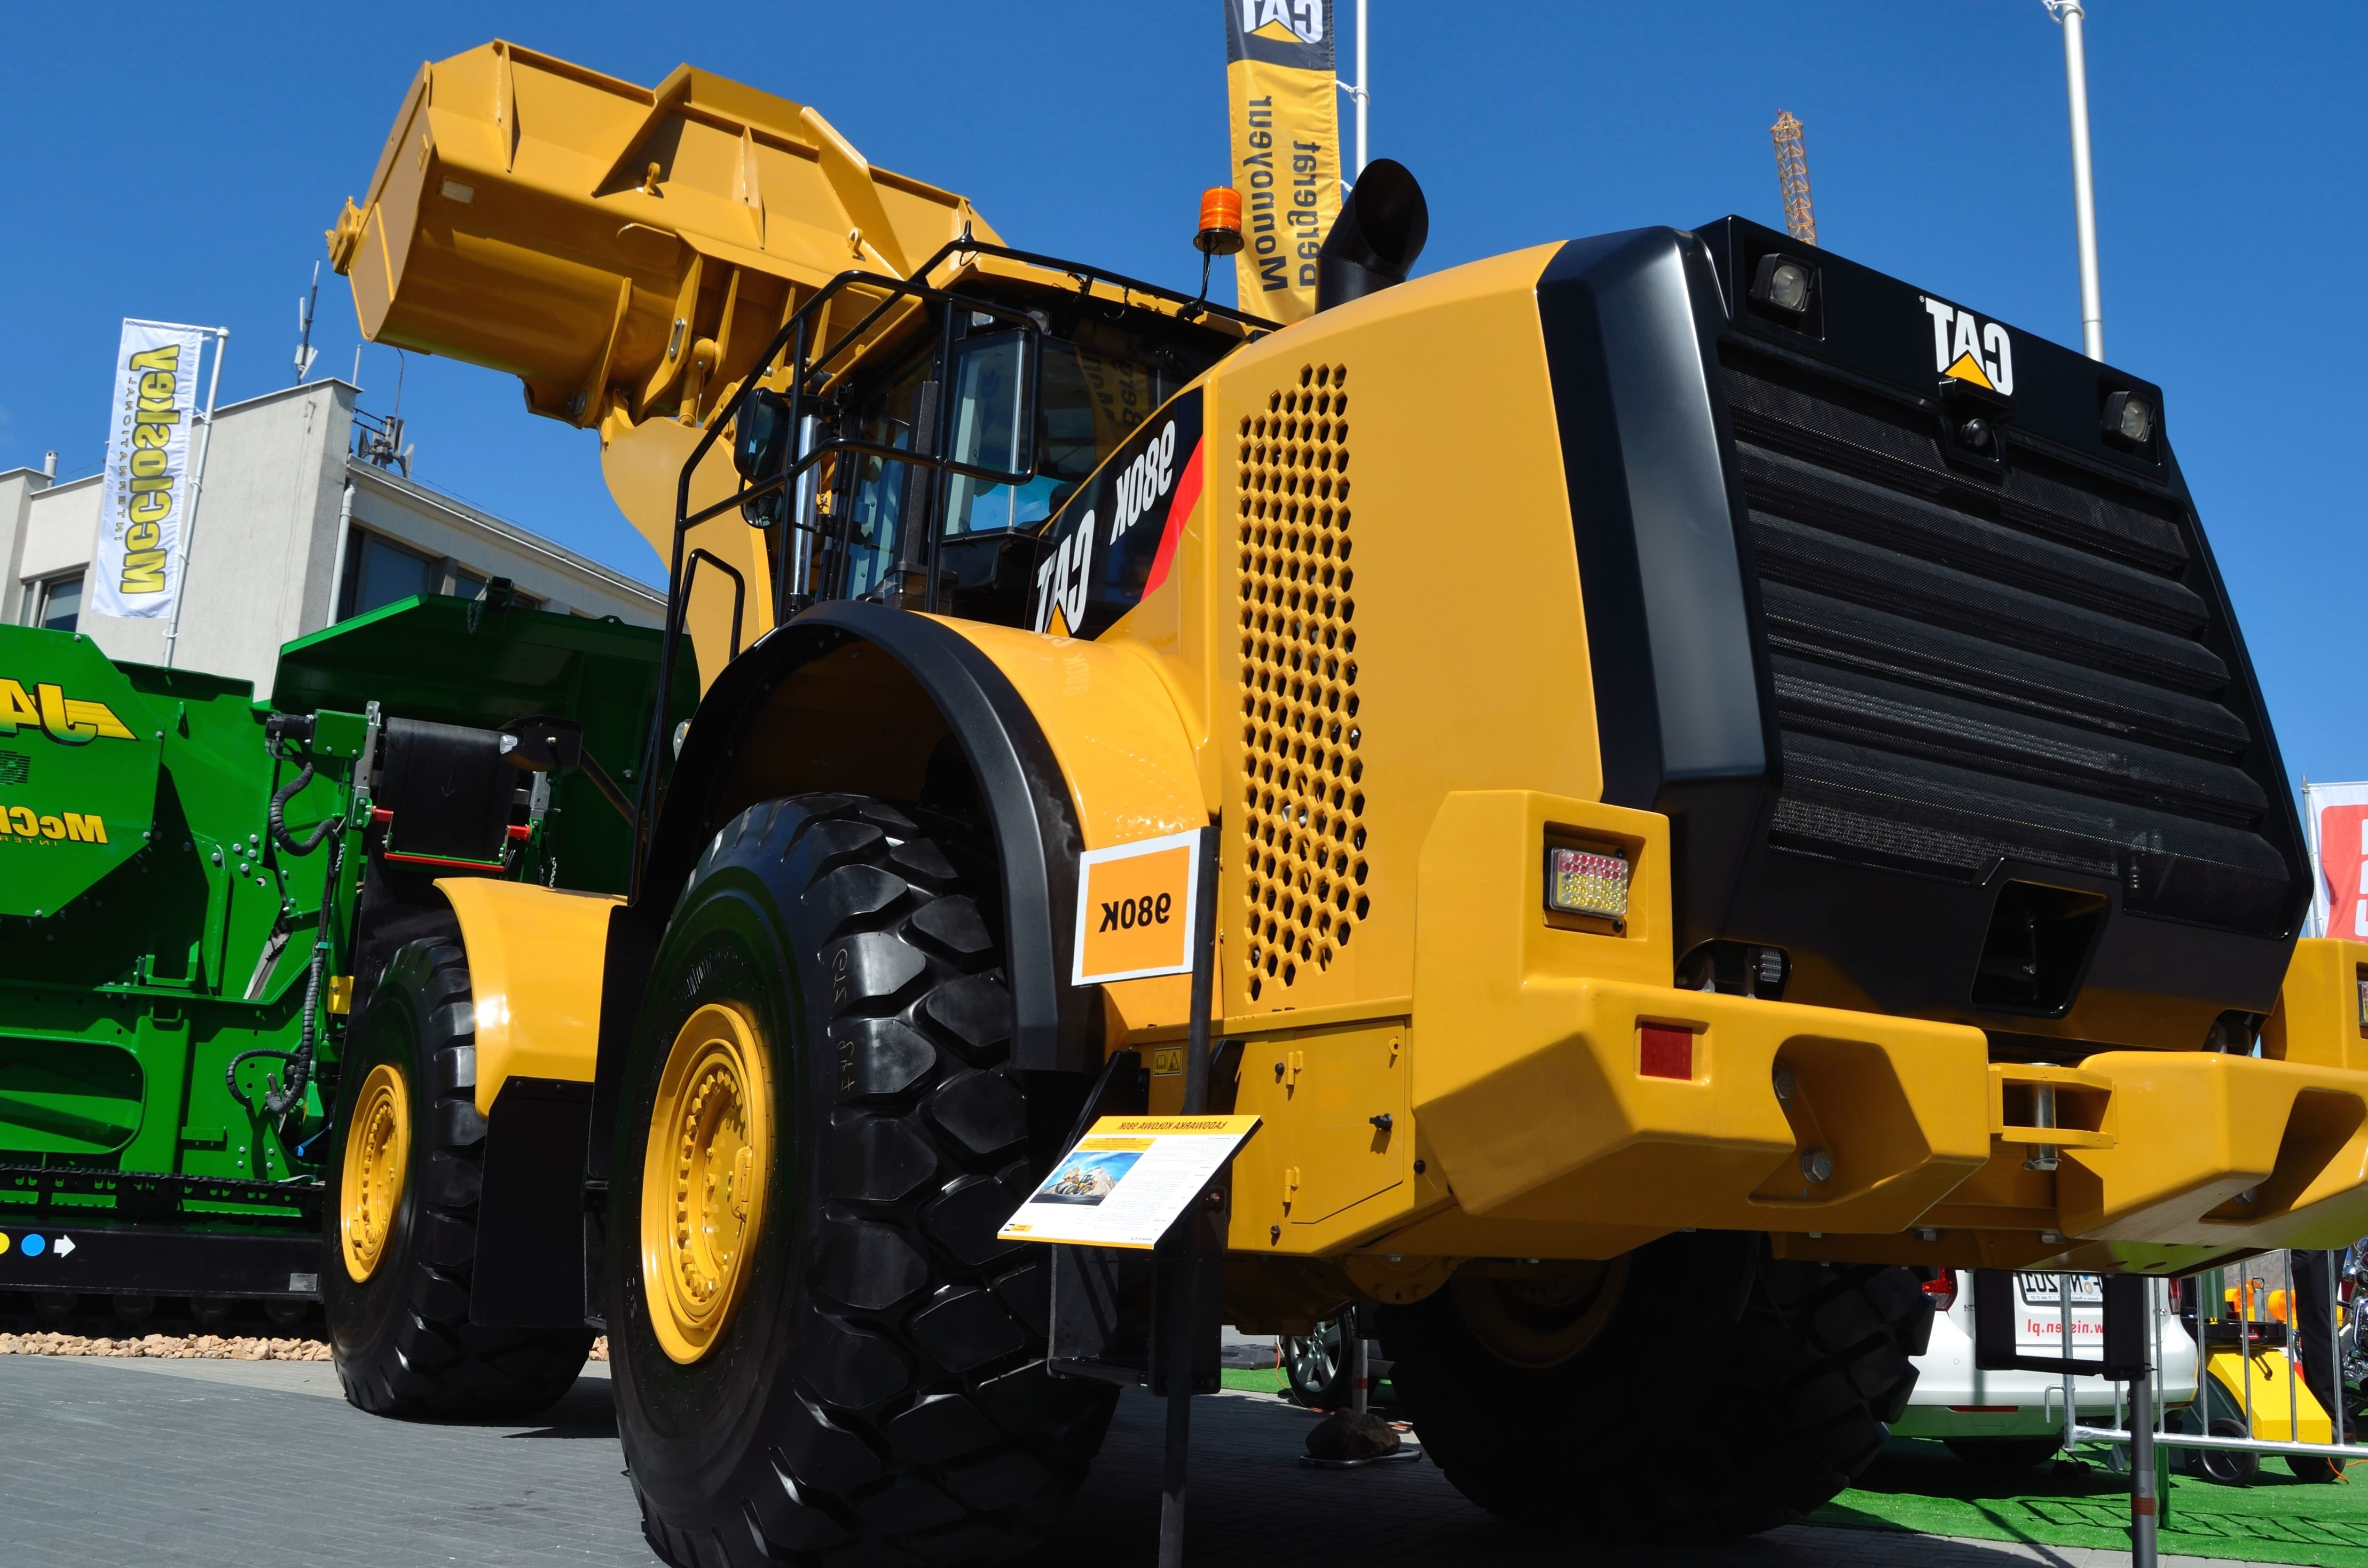excavator: (264, 35, 2368, 1568)
